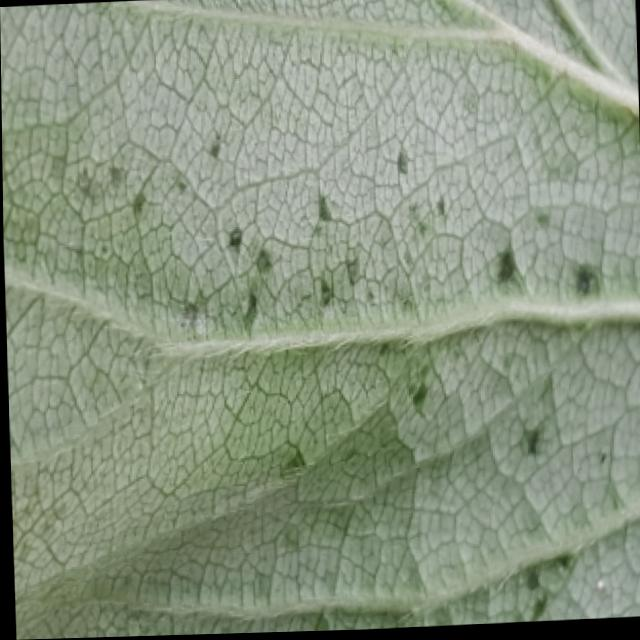Angular Leafspot: (2, 126, 620, 627)
